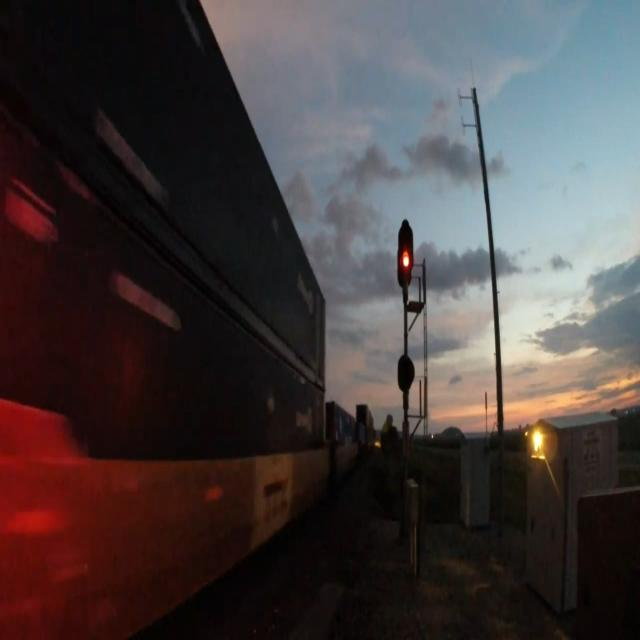container: (0, 0, 338, 403), (0, 96, 333, 472)
flatcar: (0, 381, 334, 639)
